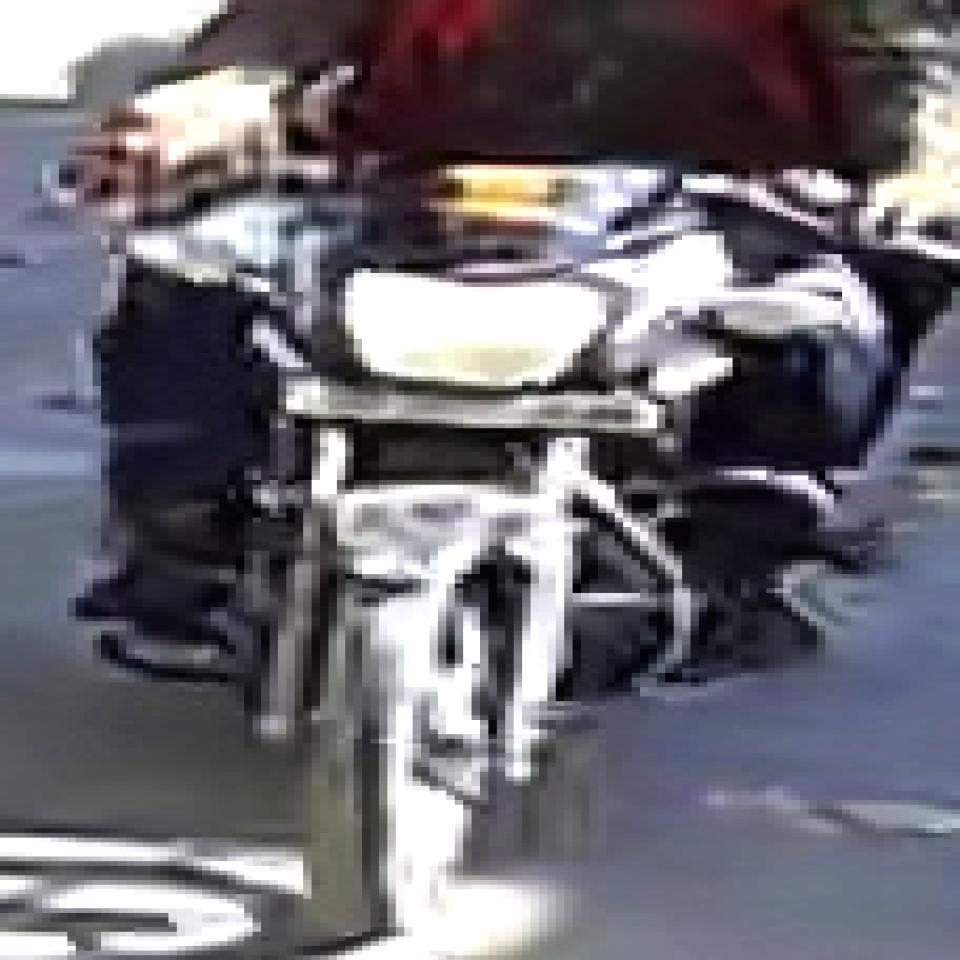head_light: (333, 261, 613, 390)
